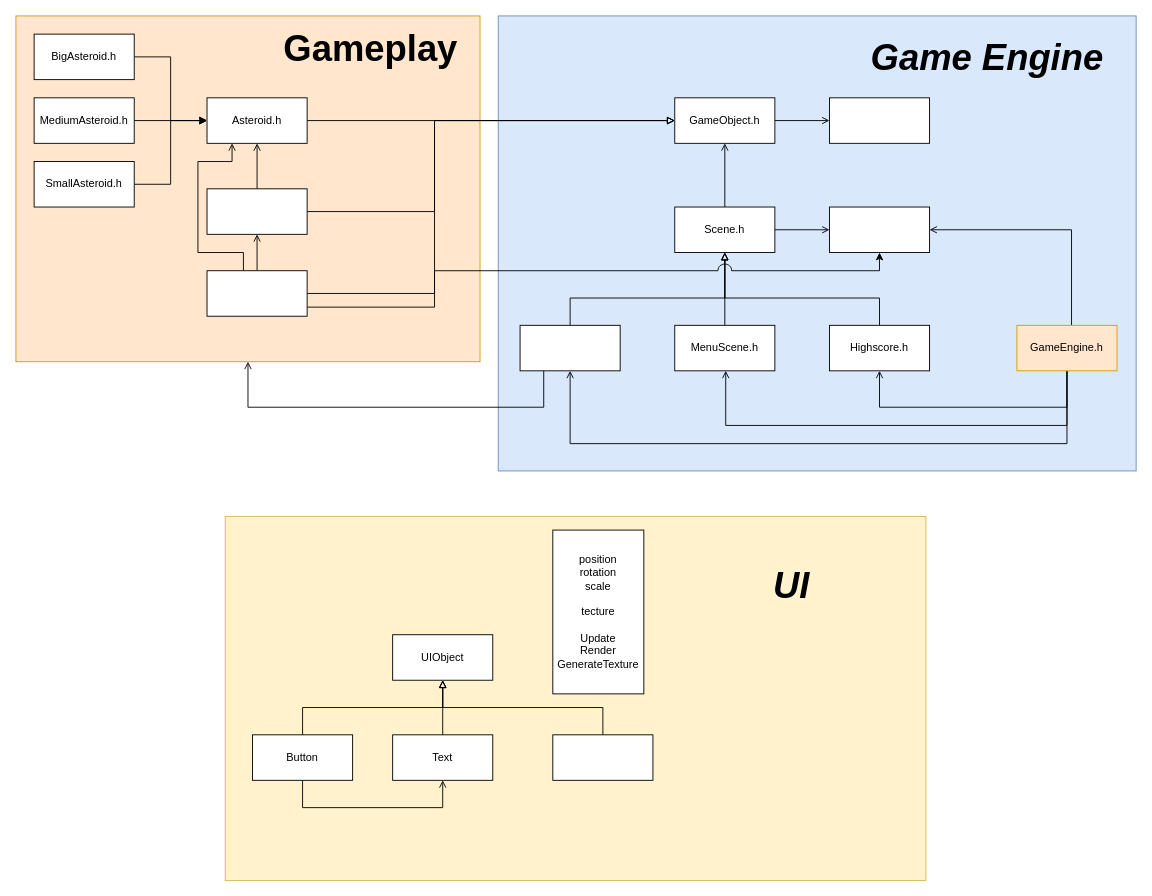
Image size: 1152x896. Some labels were removed from this diagram. Each missing label, with the centre of its shape:
Bullet.h: point (256, 211)
GameplayScene.h: point (569, 347)
InputManager.h: point (879, 229)
Spaceship.h: point (256, 293)
UIImage: point (602, 757)
Vector2.h: point (879, 120)
